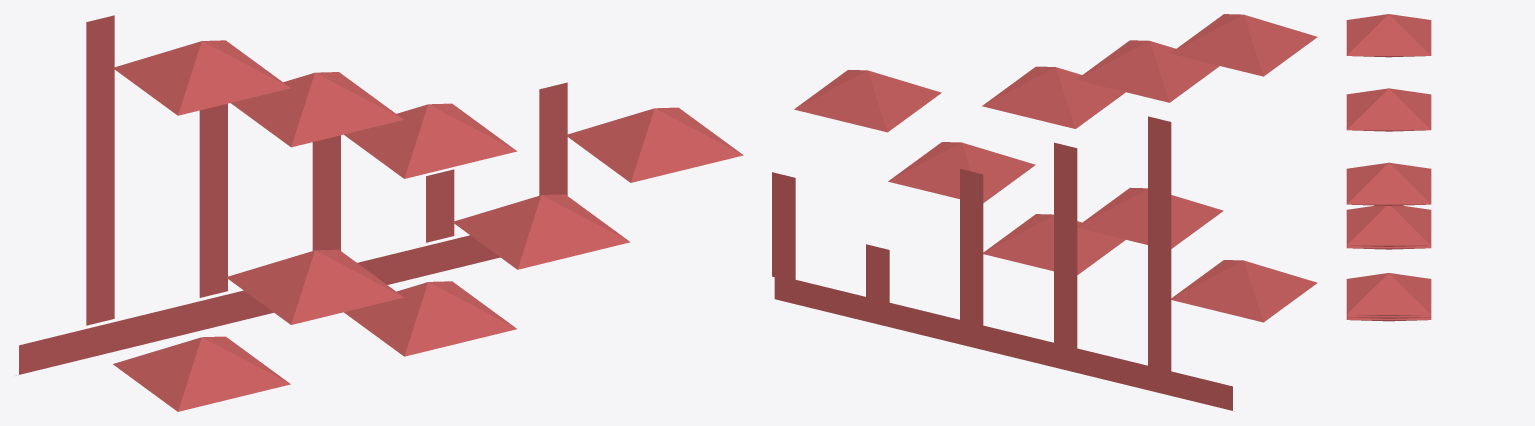
Rendered from rc_dorifu2.glb.
3 views of the same model, side by side, from view 1: azimuth 30°, elevation 25°; view 2: azimuth 150°, elevation 25°; view 3: azimuth 270°, elevation 25° (orthographic). The views are drawn at different scales.
Parts seen in each view (by area): view 1: rc_dorifu2_col; view 2: rc_dorifu2_col; view 3: rc_dorifu2_col.
Part boxes in pixels (x1=…): rc_dorifu2_col: x1=16, y1=15, x2=743, y2=411; rc_dorifu2_col: x1=772, y1=14, x2=1317, y2=410; rc_dorifu2_col: x1=1346, y1=14, x2=1431, y2=321.
Size of the model in its own units: 2.12 by 1.3 by 0.8201.
